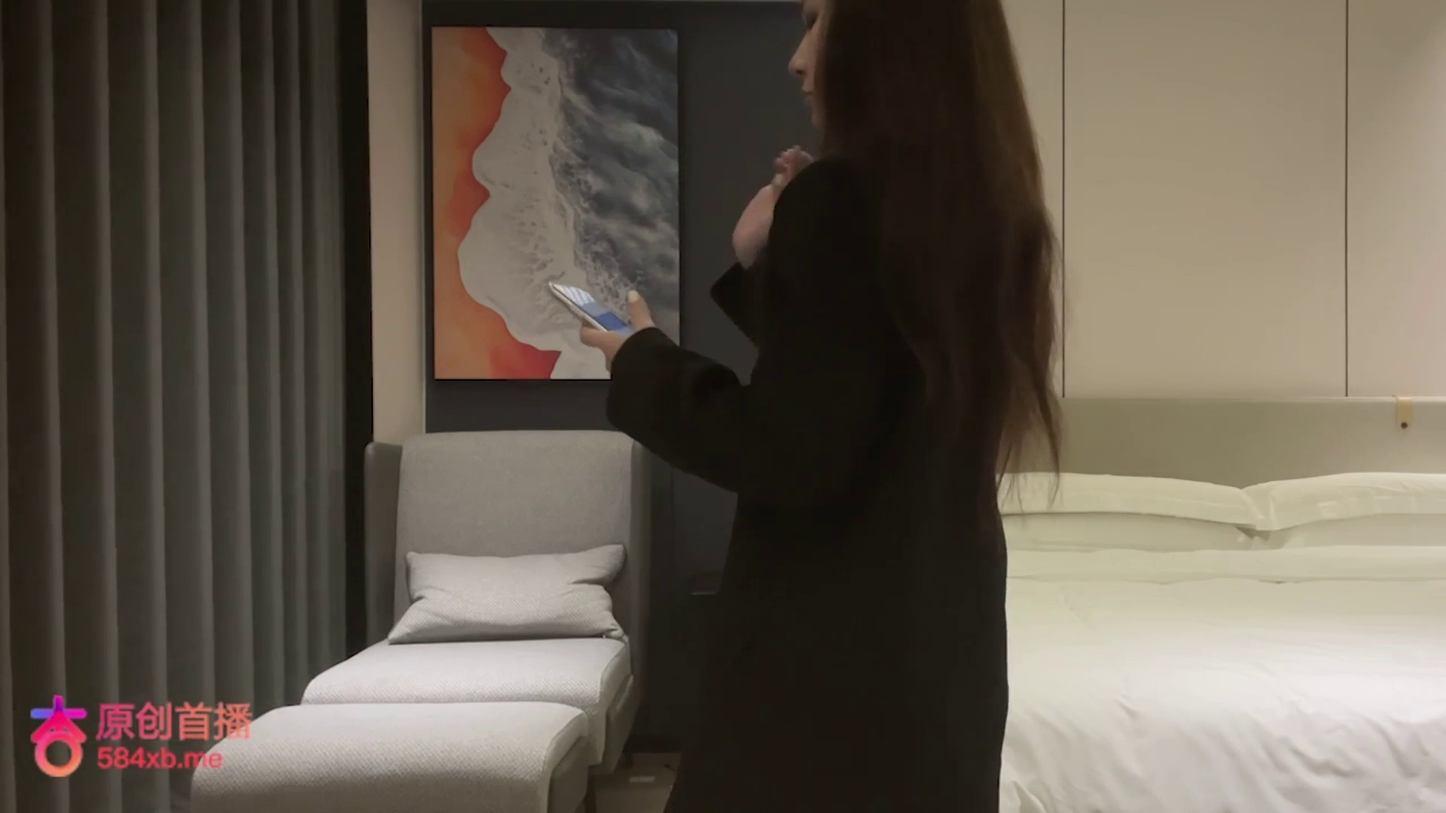stand: (575, 1, 1066, 811)
